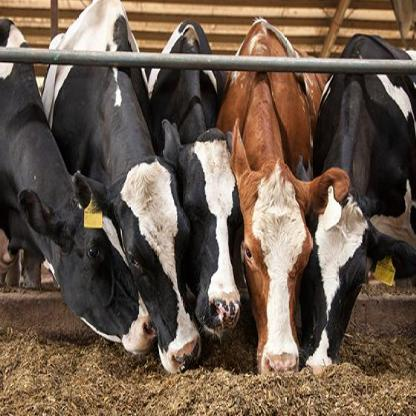cow: (46, 0, 200, 375), (0, 15, 155, 356), (305, 35, 416, 374), (218, 20, 313, 376), (147, 20, 242, 336)
